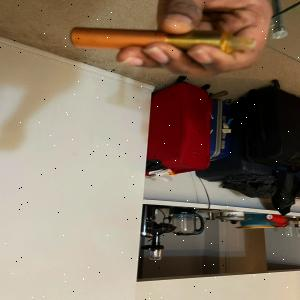Golden-E-Ciggirate: (65, 24, 266, 53)
